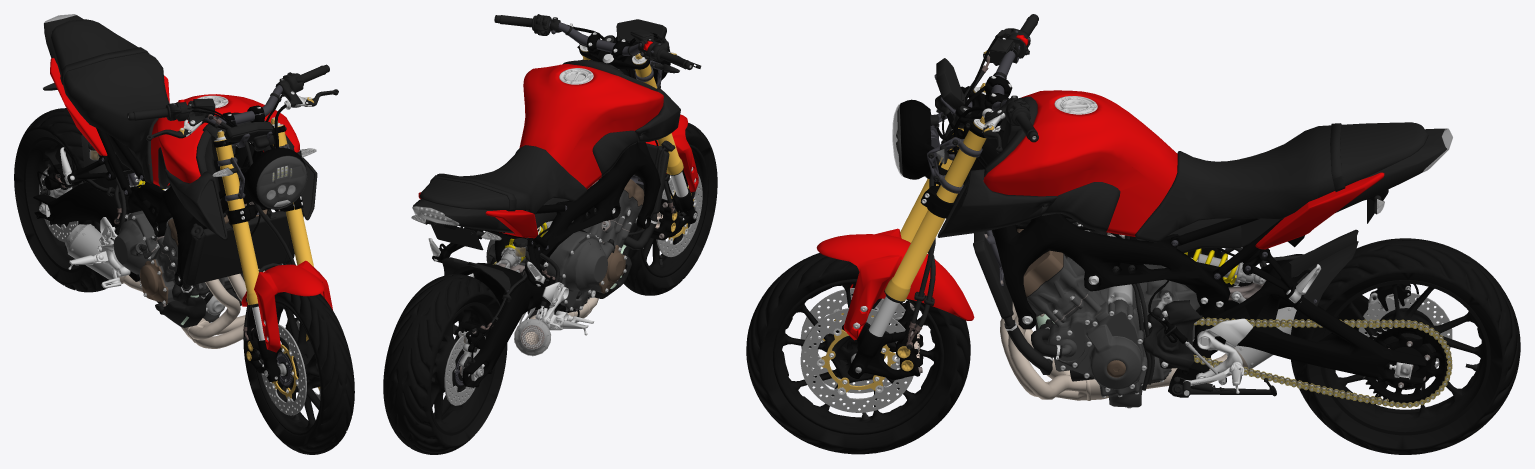
The model's file is street-bike.glb.
The picture shows the model from 3 angles, left to right: view 1: azimuth 30°, elevation 25°; view 2: azimuth 150°, elevation 25°; view 3: azimuth 270°, elevation 25°; orthographic projection. The views are drawn at different scales.
Parts seen in each view (by area): view 1: Body, WheelFront, WheelRear; view 2: Body, WheelRear, WheelFront; view 3: Body, WheelRear, WheelFront.
Part boxes in pixels (x1=…): Body: x1=33, y1=14, x2=338, y2=386; WheelFront: x1=243, y1=292, x2=354, y2=454; WheelRear: x1=14, y1=108, x2=110, y2=292; Body: x1=411, y1=14, x2=701, y2=387; WheelRear: x1=383, y1=274, x2=507, y2=454; WheelFront: x1=623, y1=122, x2=717, y2=295; Body: x1=816, y1=14, x2=1452, y2=408; WheelRear: x1=1291, y1=238, x2=1520, y2=454; WheelFront: x1=746, y1=253, x2=970, y2=454.
Size of the model in its own units: 0.7424 by 1.11 by 2.01.
